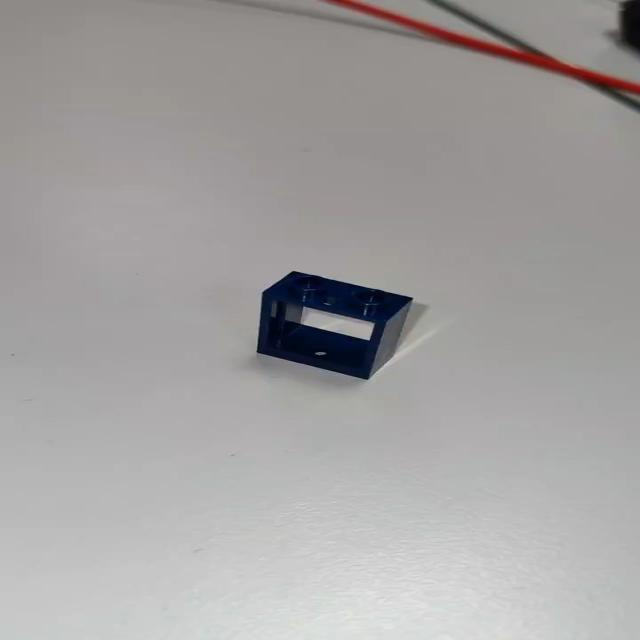W2x1x2: (250, 267, 422, 382)
